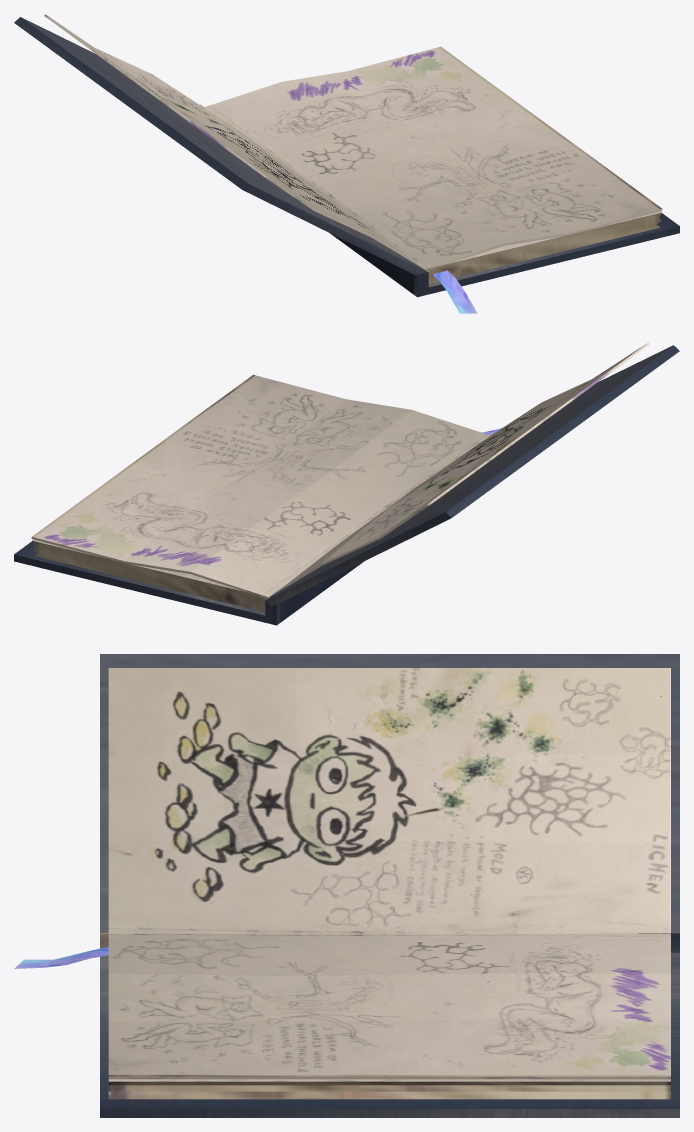
File: carnet.fbx
3 renders of one model, top to bottom at view 1: azimuth 30°, elevation 25°; view 2: azimuth 150°, elevation 25°; view 3: azimuth 270°, elevation 25°, orthographic. The views are drawn at different scales.
Parts seen in each view (by area): view 1: Carnet; view 2: Carnet; view 3: Carnet.
Part boxes in pixels (<box>): Carnet: <box>14,14,679,313</box>; Carnet: <box>14,342,679,625</box>; Carnet: <box>14,654,679,1117</box>.
Size of the model in its own units: 45.67 by 15.41 by 47.37.
1 material, 1 textured.
